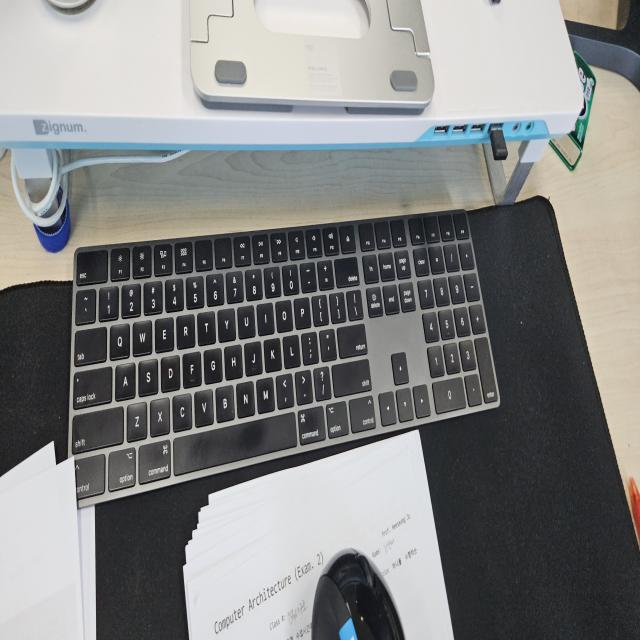Keyboard: (66, 207, 501, 508)
Mouse: (310, 545, 406, 638)
